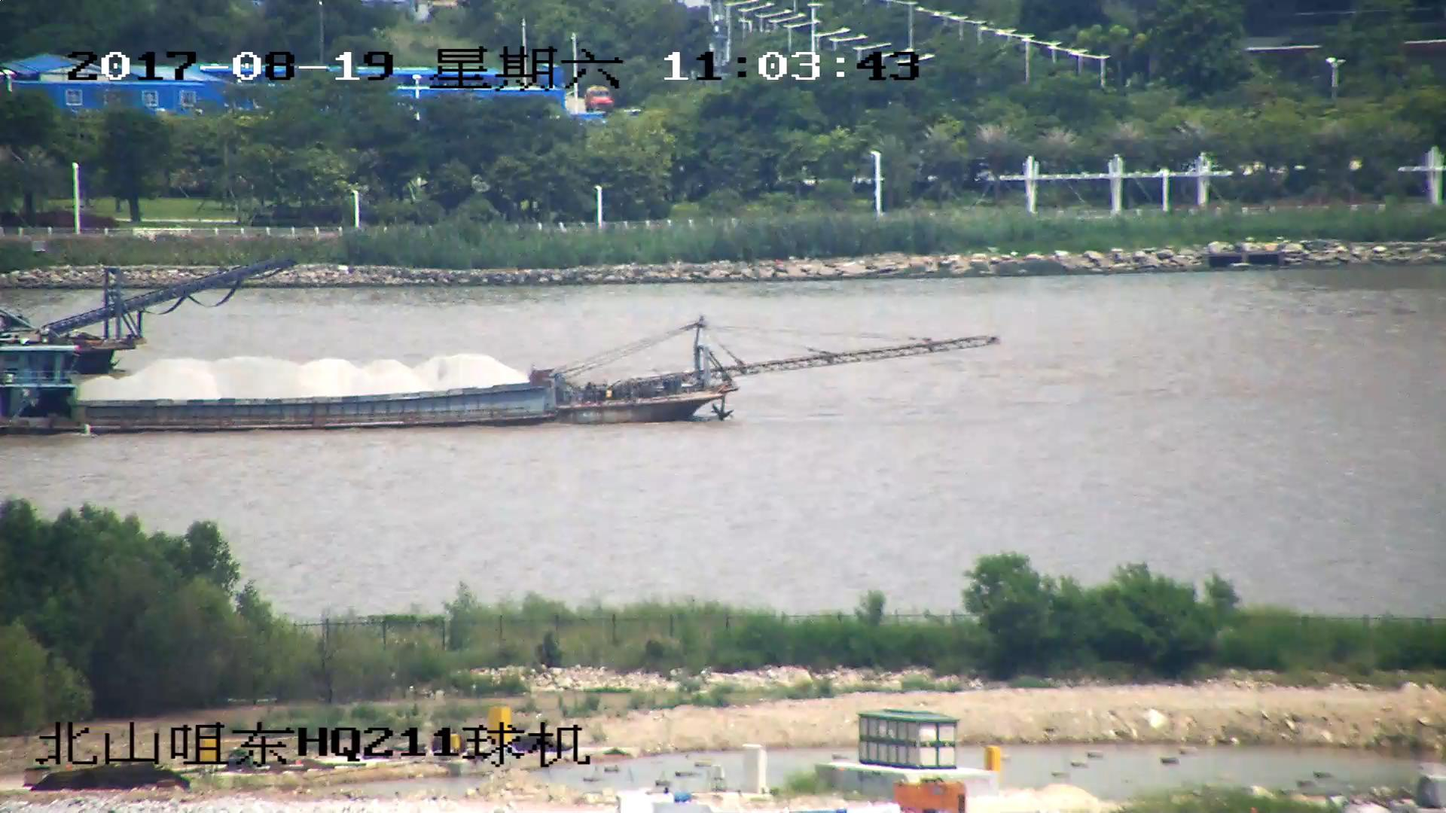ore carrier: (0, 325, 997, 438), (0, 255, 290, 372)
